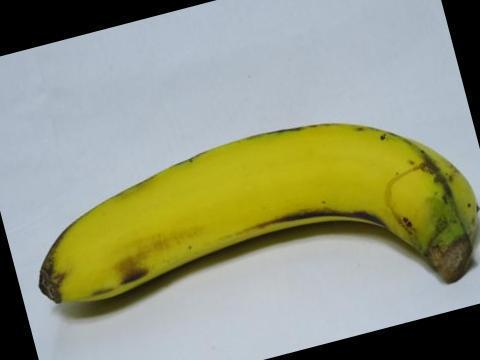freshripe: (27, 112, 479, 323)
